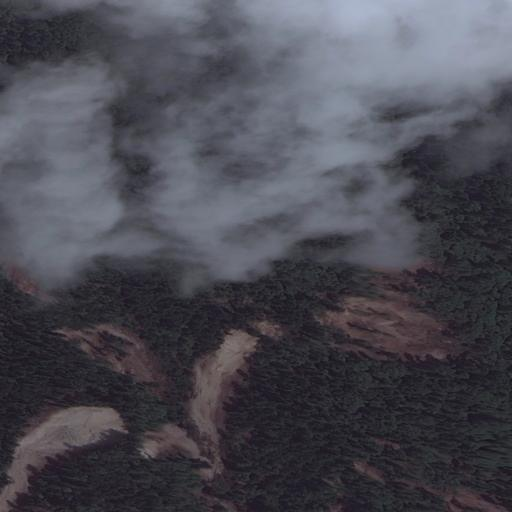landslide: (1, 315, 274, 512), (314, 287, 447, 358)
